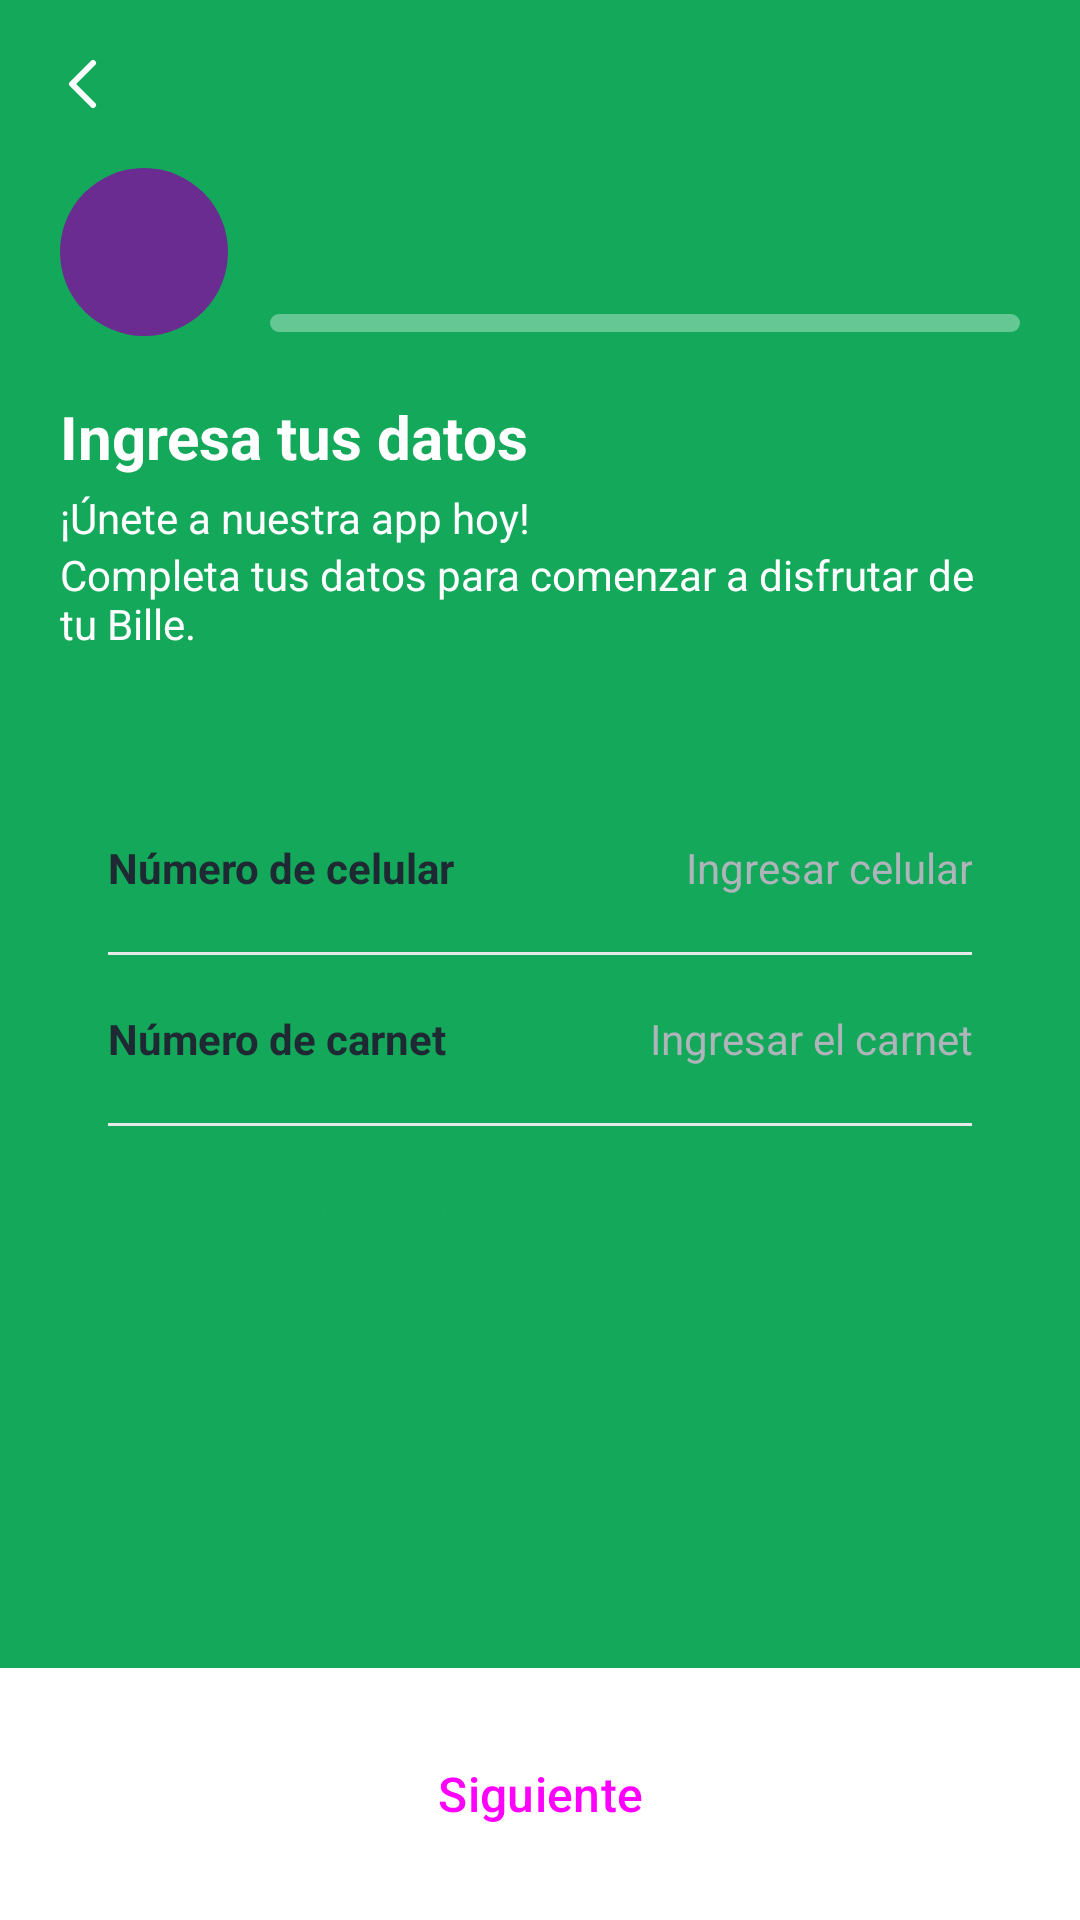

Point at icon controls on the screen. Image size 1080w x 1920h, points as point (x, y).
Atrás: point (82, 84)
